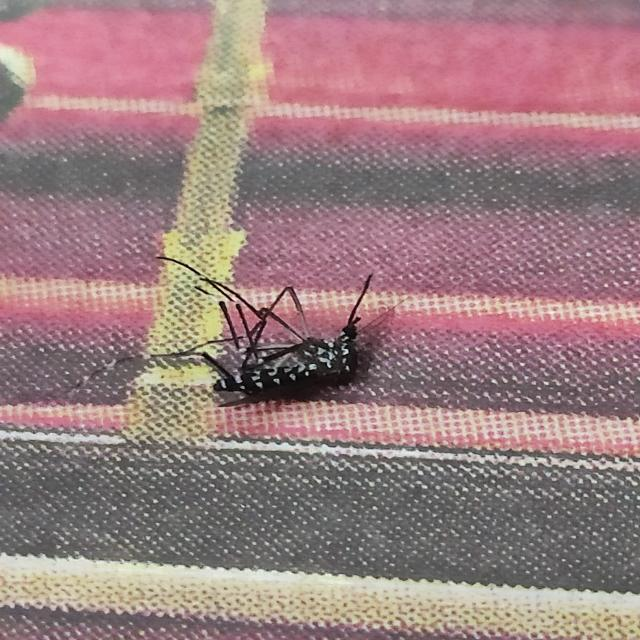albopictus: (128, 233, 384, 404)
